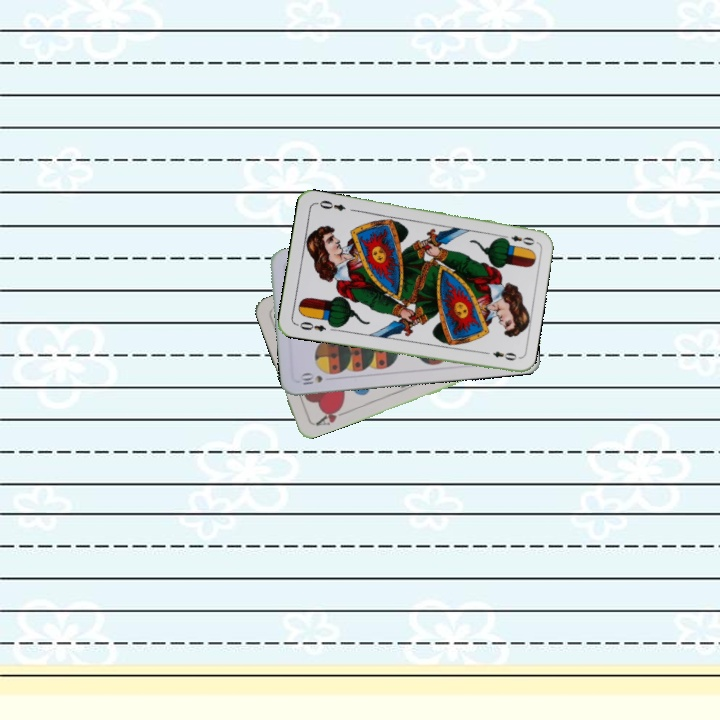EO: (498, 231, 537, 248), (292, 318, 328, 334)
HA: (311, 402, 349, 428)
S10: (298, 370, 325, 387)
